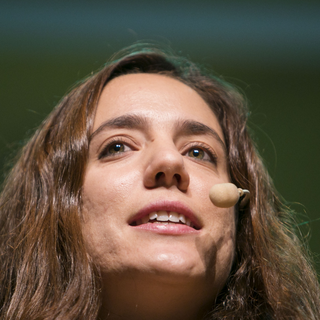eye: (87, 133, 147, 165), (174, 134, 222, 171)
